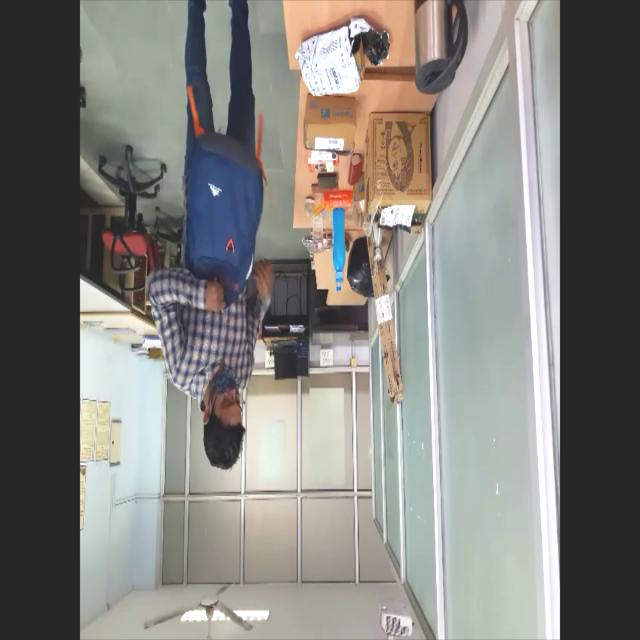shoplifting: (144, 1, 277, 475)
